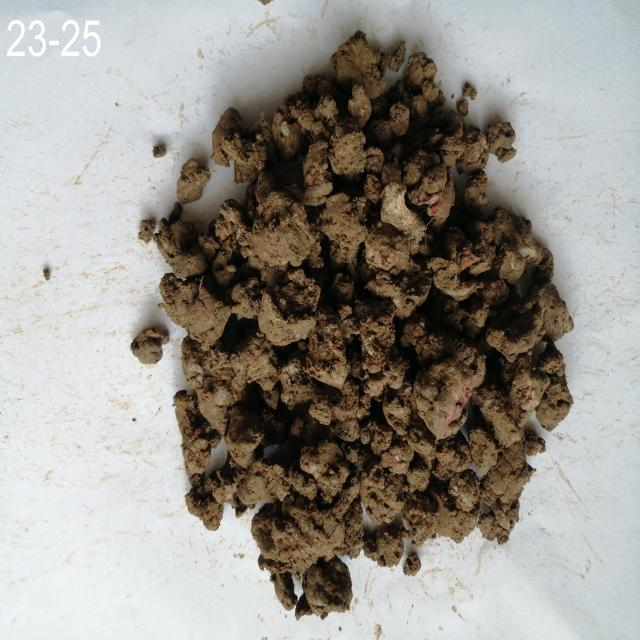soil: (246, 140, 476, 489)
